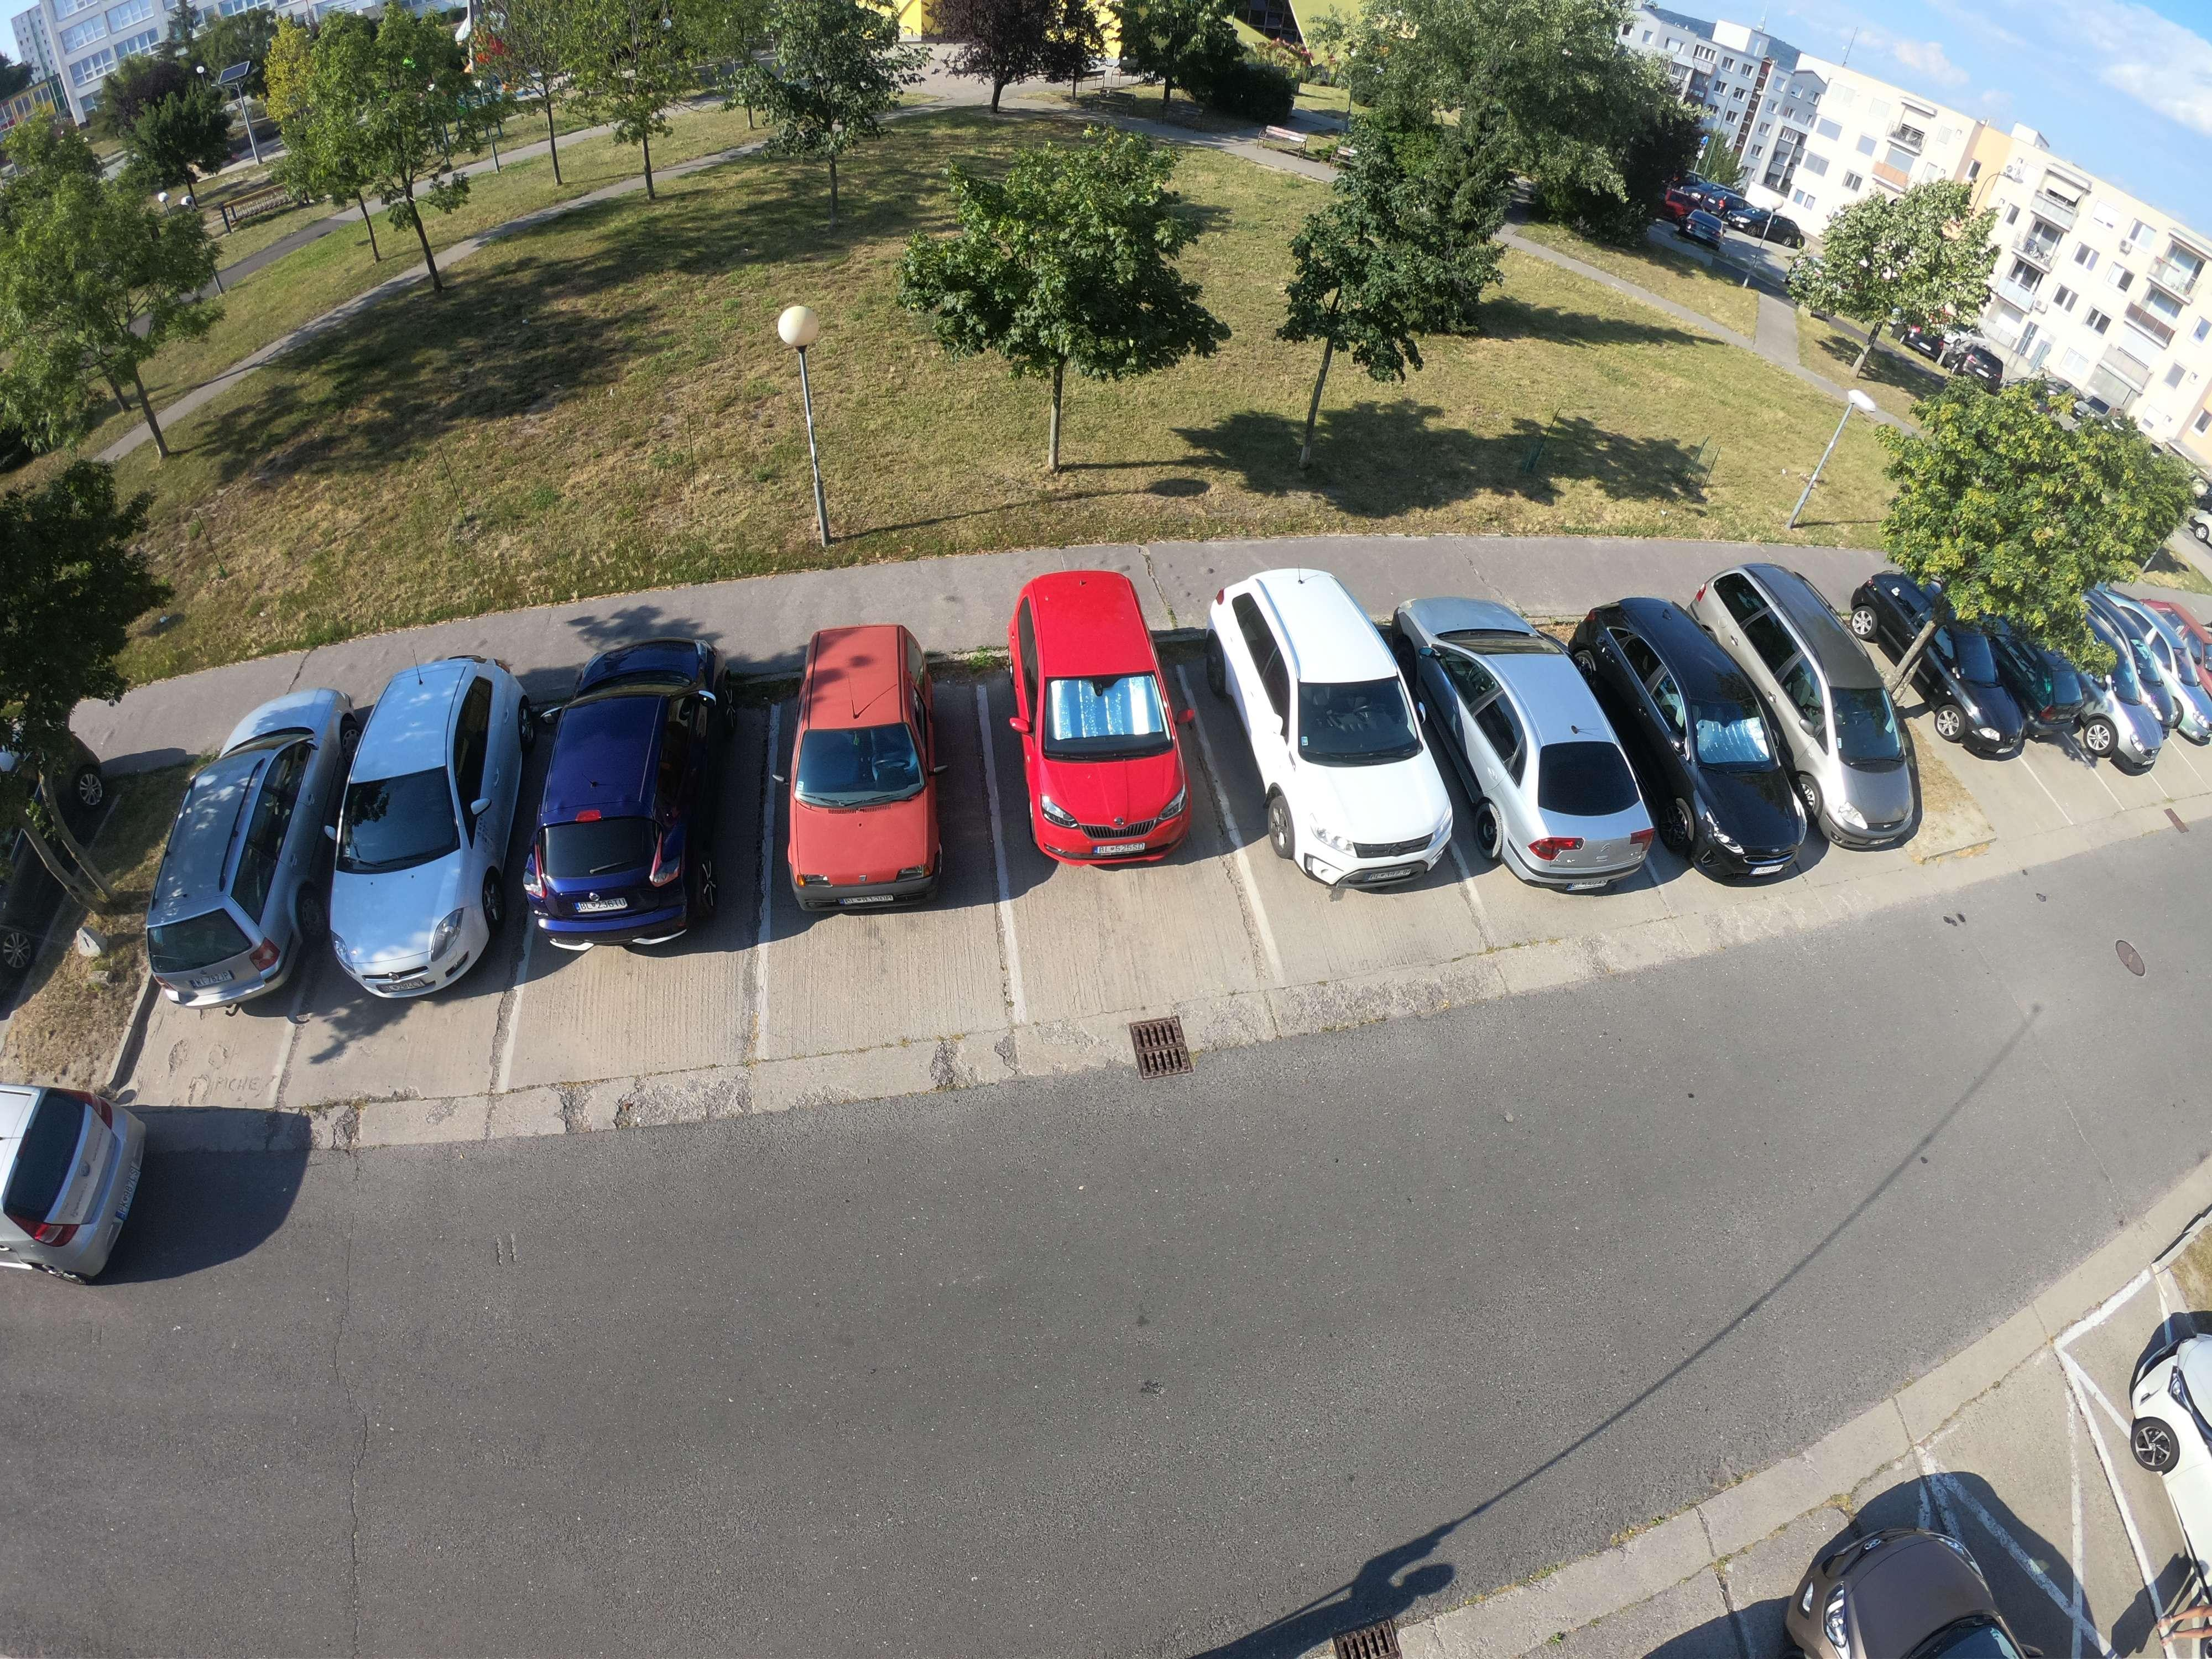empty: (1216, 572, 1467, 892), (303, 666, 538, 999), (503, 641, 726, 953), (744, 620, 974, 920), (986, 566, 1212, 868), (127, 706, 345, 1002), (1611, 599, 1825, 884), (1719, 570, 1921, 863), (1775, 1469, 2085, 1659), (1442, 617, 1644, 892), (1890, 591, 2081, 763), (0, 1068, 148, 1279), (2139, 1321, 2212, 1610), (2099, 608, 2212, 767)
